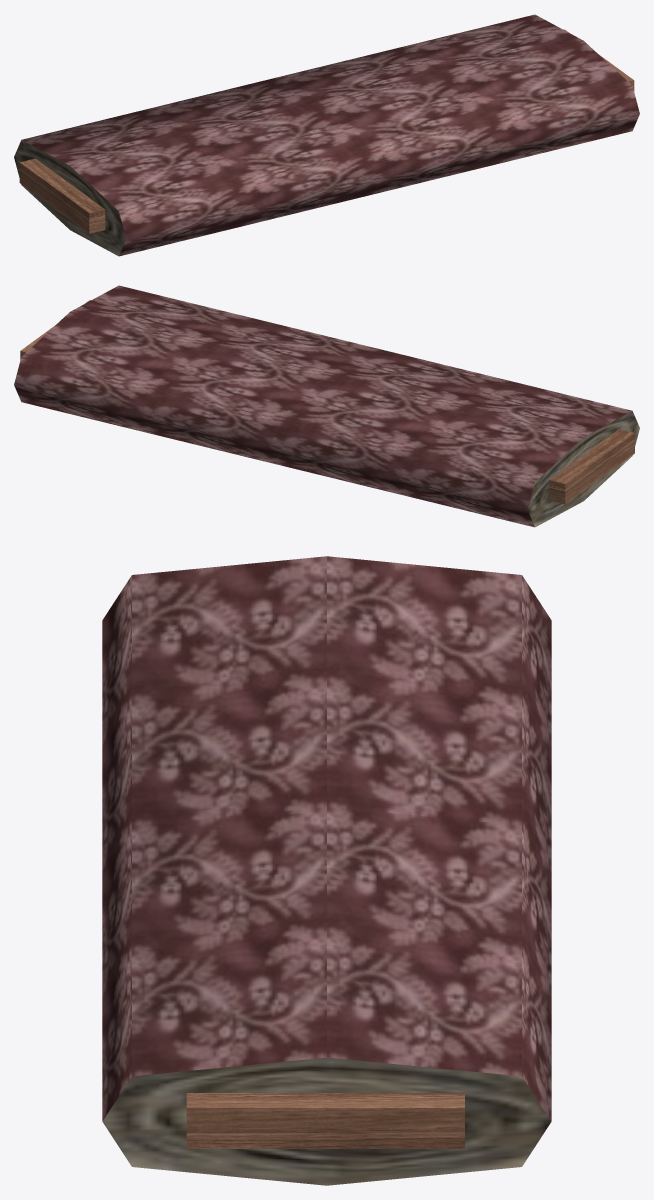
The model's file is shop_tailor_fabricBolt03.fbx.
3 renders of one model, top to bottom at view 1: azimuth 30°, elevation 25°; view 2: azimuth 150°, elevation 25°; view 3: azimuth 270°, elevation 25°, orthographic. The views are drawn at different scales.
Parts seen in each view (by area): view 1: bolt_fabric, bolt_wood; view 2: bolt_fabric, bolt_wood; view 3: bolt_fabric, bolt_wood.
Part boxes in pixels (bbox=[...]): bolt_fabric: bbox=[14, 14, 639, 256]; bolt_wood: bbox=[19, 29, 634, 233]; bolt_fabric: bbox=[14, 285, 639, 527]; bolt_wood: bbox=[20, 300, 634, 504]; bolt_fabric: bbox=[102, 556, 551, 1185]; bolt_wood: bbox=[186, 1093, 464, 1148].
Bounding box in the file's own units: 386 × 43.4 × 138.
1 material, 1 textured.
